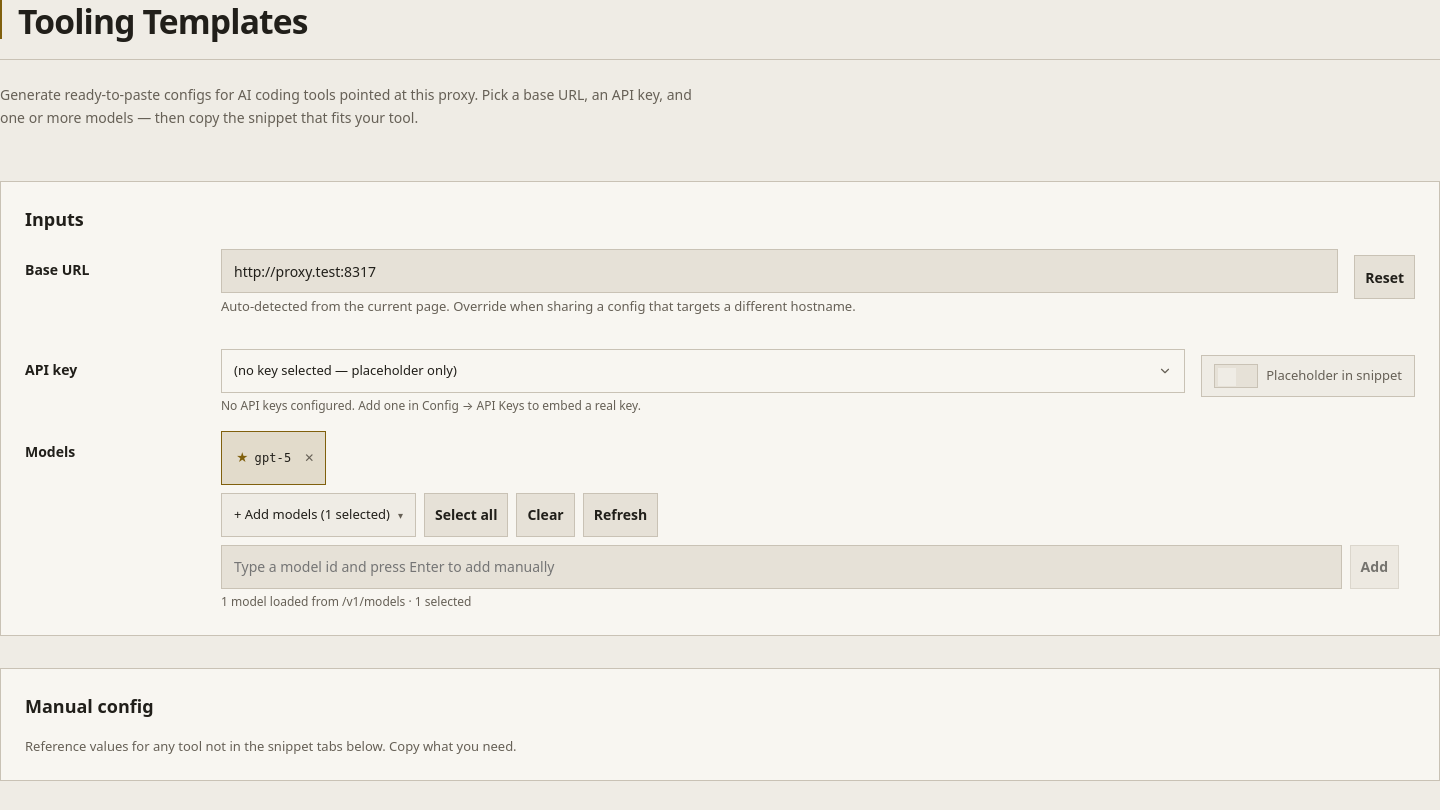
Test: ToolingTemplatesPage model picker › shows the no-match message when the search excludes every model
Click the button "+ Add models (1 selected) ▾": (318, 514) [221, 492, 416, 536]
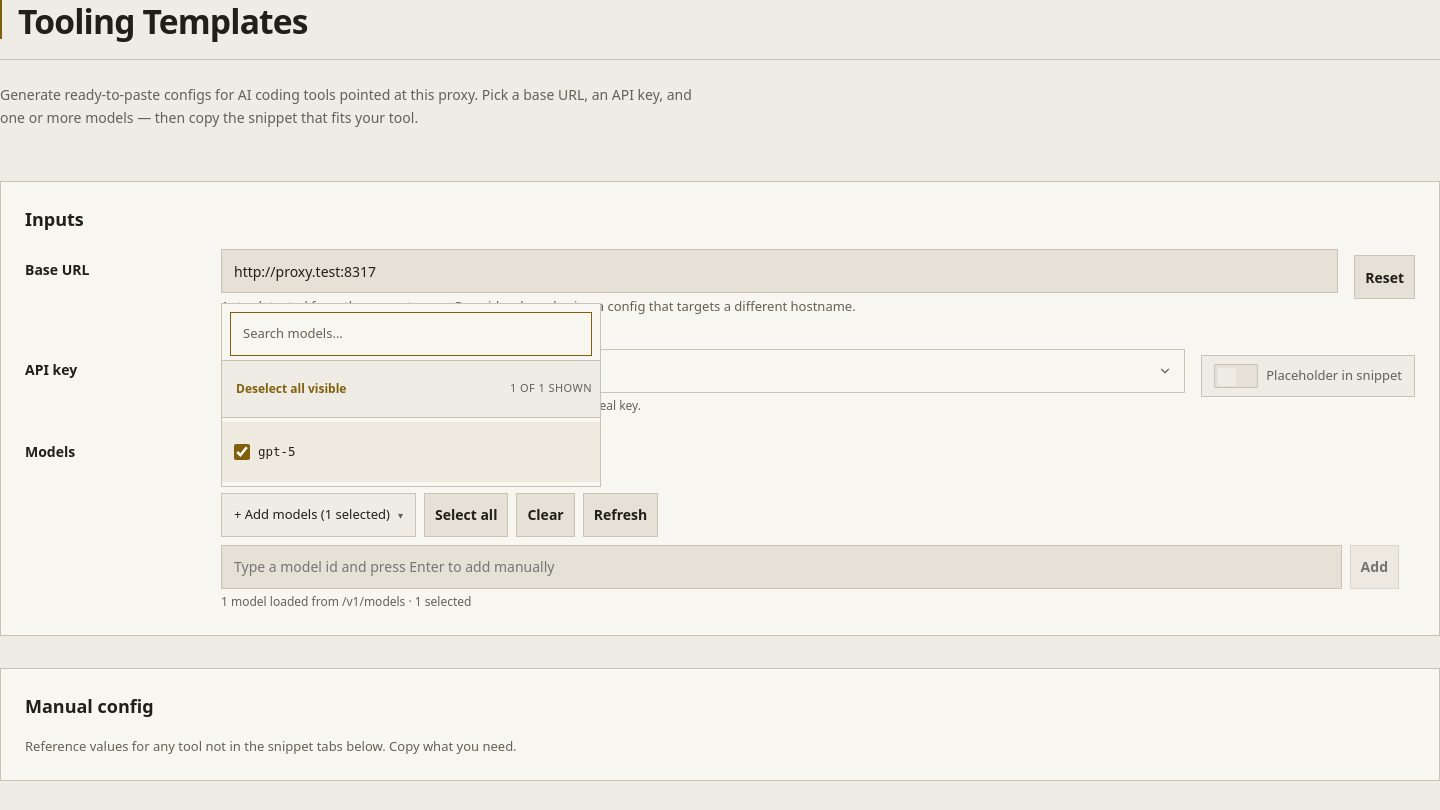
In the field labelled "Search models": (411, 334) [230, 312, 592, 356], type "zzz-nope"
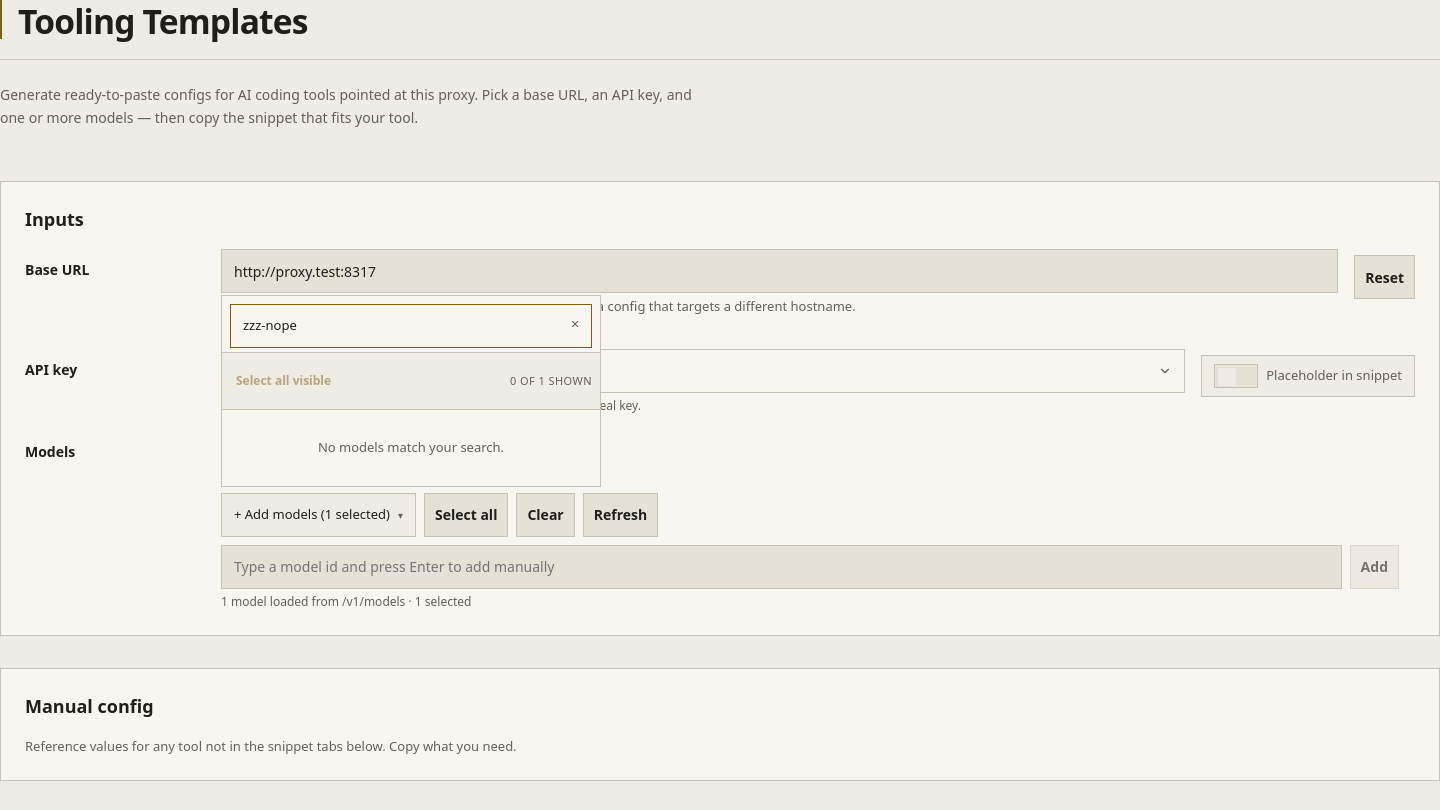
Expected: the text "No models match your search." is shown, [318, 438, 504, 456]
